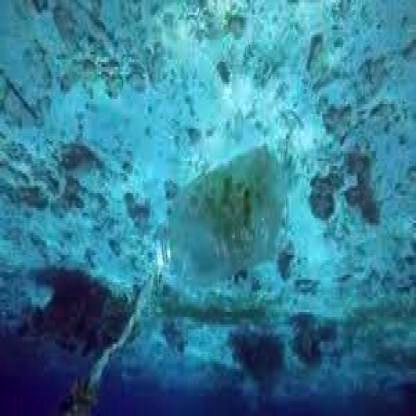pbottle: (147, 144, 290, 292)
